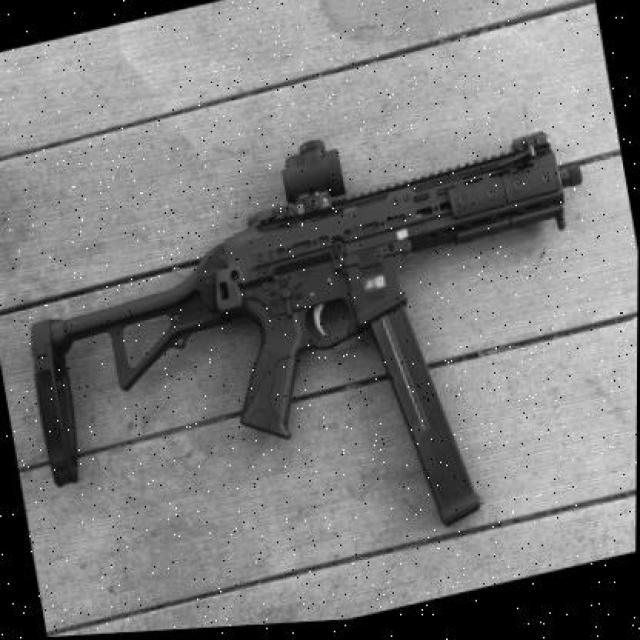weapon: (29, 130, 585, 530)
